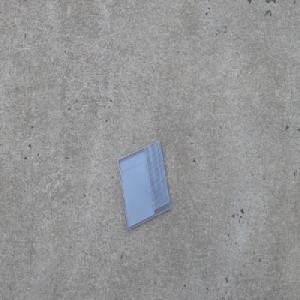PlasticPart: (116, 138, 171, 232)
